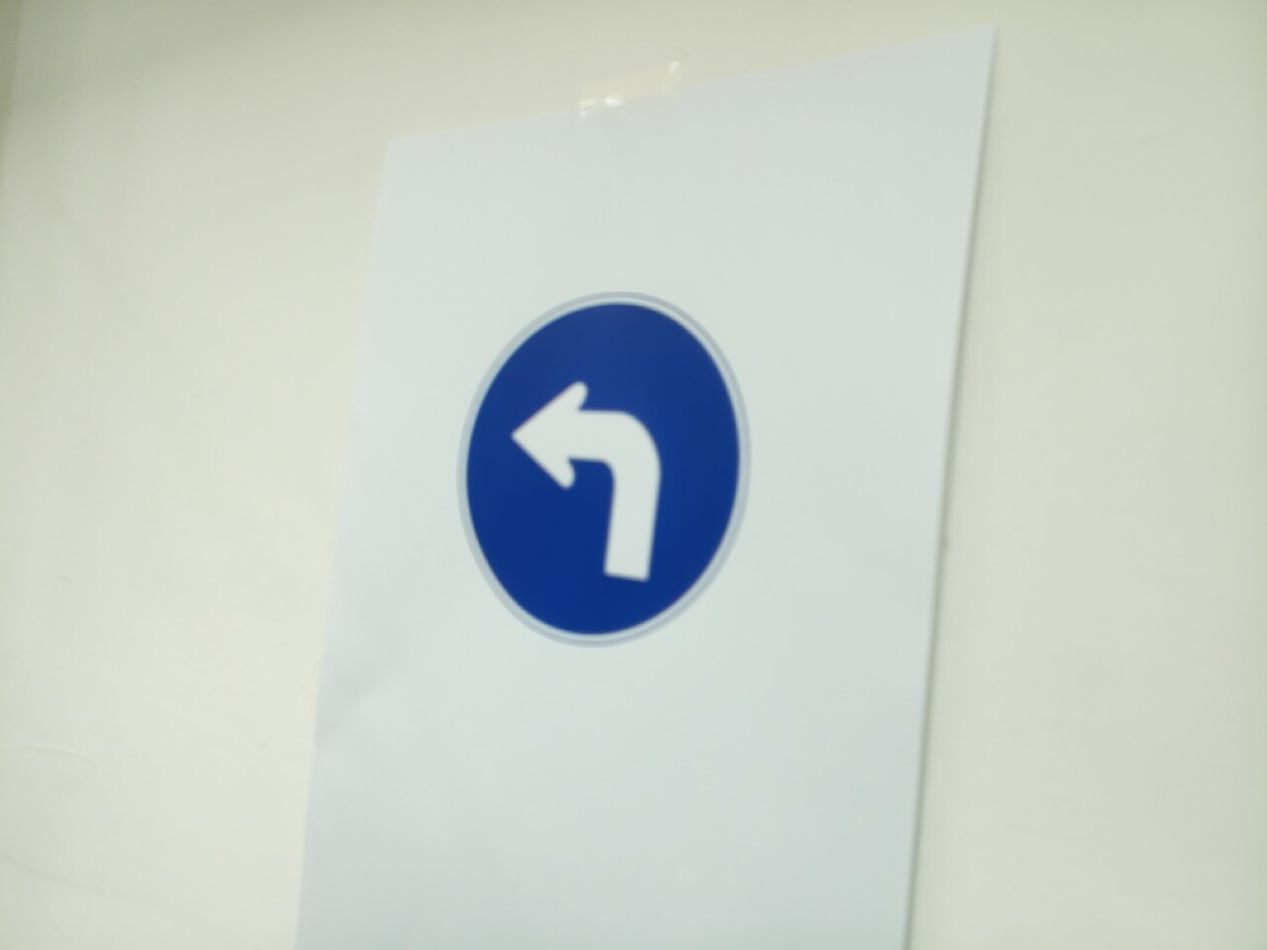left_turn: (457, 293, 749, 645)
